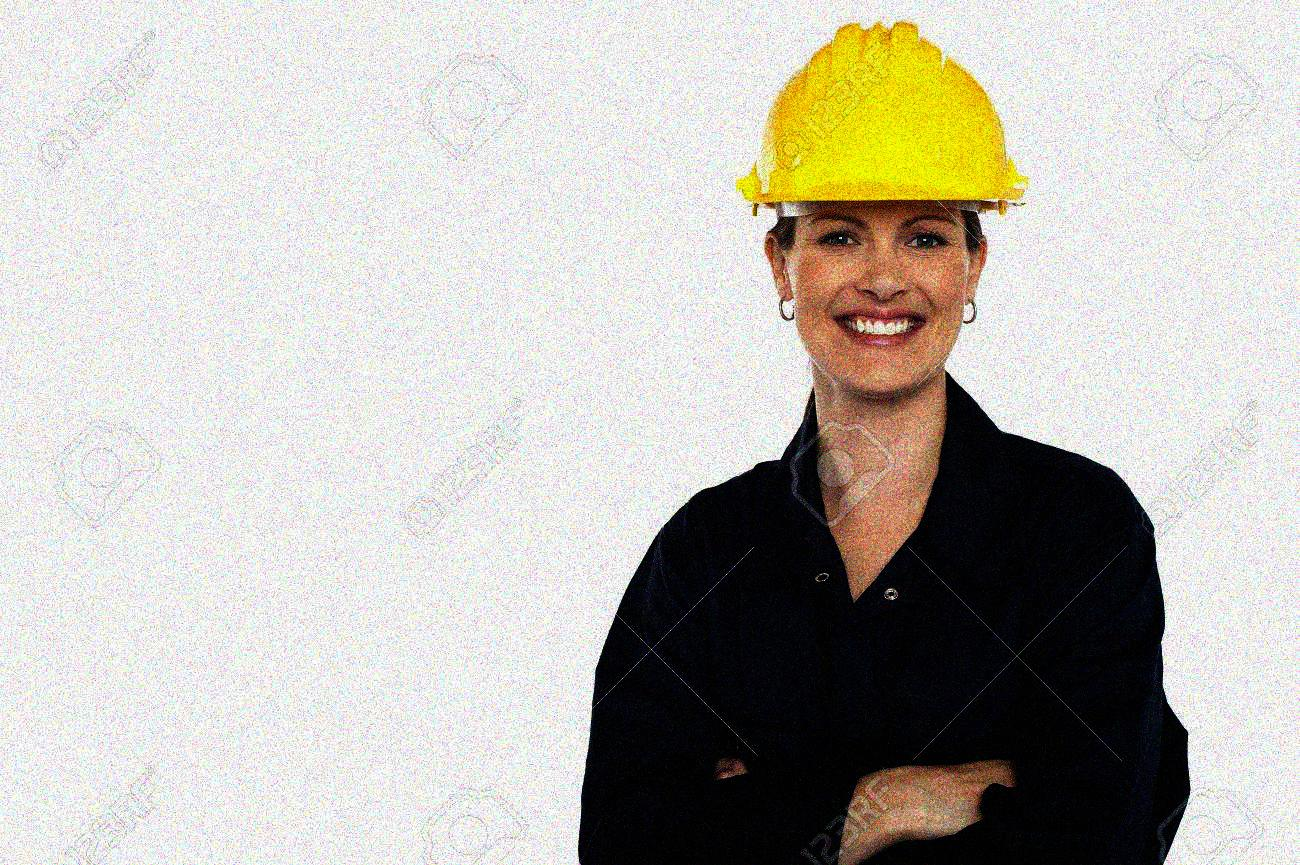helmet: (740, 18, 1022, 400)
